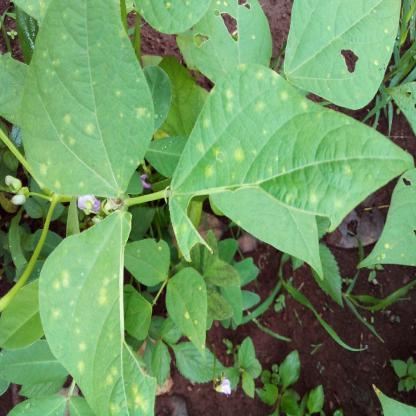Beans_Rust: (162, 64, 412, 264), (17, 0, 158, 195), (40, 210, 159, 416), (285, 0, 402, 103), (355, 156, 416, 271), (186, 1, 276, 77)
